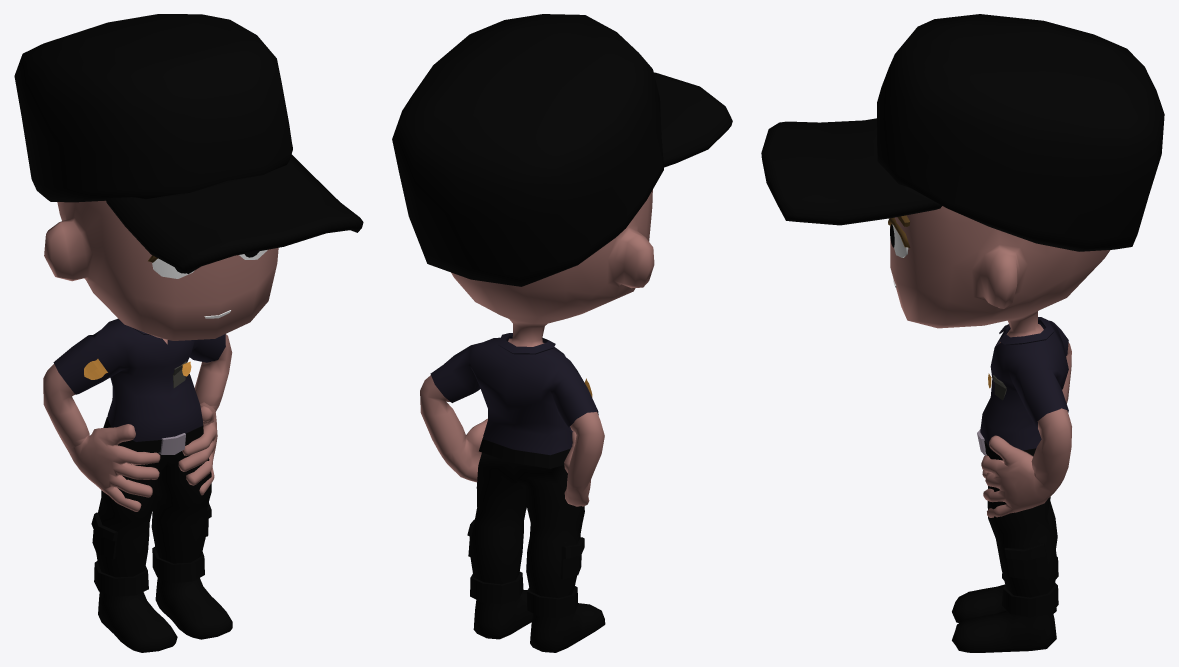
Rendered from Personaje_juzgado_2.fbx.
The picture shows the model from 3 angles, left to right: view 1: azimuth 30°, elevation 25°; view 2: azimuth 150°, elevation 25°; view 3: azimuth 270°, elevation 25°; orthographic projection. The views are drawn at different scales.
Parts seen in each view (by area): view 1: cap1, body.030, pants2, shirt4, socks.013, belt1, eyesbase2.013; view 2: cap1, body.030, pants2, shirt4, socks.013, belt1; view 3: cap1, body.030, shirt4, pants2, socks.013.
Boxes of the visible parts, x1,y1,x2,y2 form: cap1: (14, 14, 363, 273); body.030: (43, 200, 278, 511); pants2: (91, 451, 211, 596); shirt4: (53, 318, 225, 441); socks.013: (98, 578, 232, 652); belt1: (103, 417, 203, 454); eyesbase2.013: (148, 250, 267, 278); cap1: (392, 14, 732, 286); body.030: (420, 190, 654, 506); pants2: (467, 452, 584, 618); shirt4: (430, 333, 598, 455); socks.013: (473, 590, 605, 652); belt1: (479, 438, 570, 468); cap1: (761, 14, 1164, 251); body.030: (890, 206, 1110, 517); shirt4: (980, 317, 1068, 450); pants2: (987, 486, 1058, 617); socks.013: (952, 584, 1056, 652).
Size of the model in its own units: 74.78 by 181 by 112.
